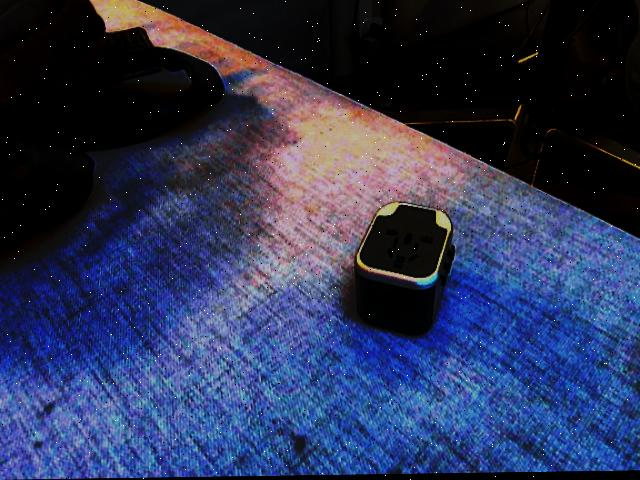adapter: (352, 201, 456, 338)
